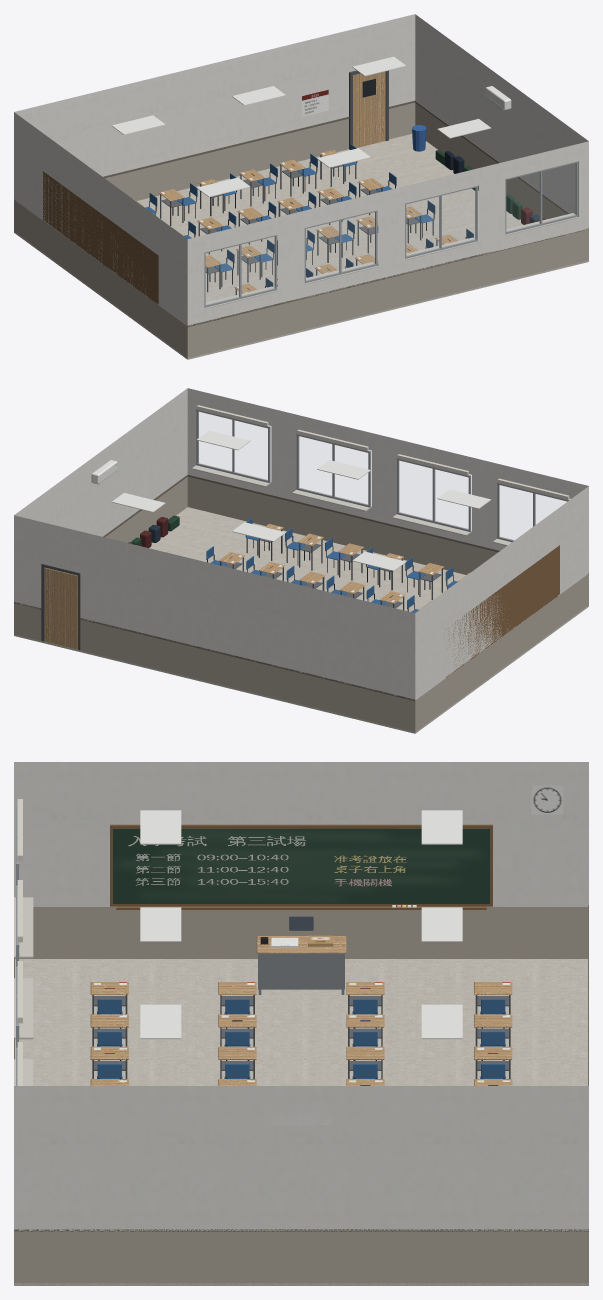
The model's file is gongtong_3f.glb.
3 views of the same model, one above another, from view 1: azimuth 30°, elevation 25°; view 2: azimuth 150°, elevation 25°; view 3: azimuth 270°, elevation 25° (orthographic). The views are drawn at different scales.
Parts seen in each view (by area): view 1: WALL_N_wall, WALL_S_wall, gongtong_3f_floorm, WALL_S_glass, WALL_S_wain, WALL_E_wall, WALL_W_wall, gongtong_3f_props, WALL_N_wain, WALL_W_trim, WALL_W_wain, WALL_S_frame (+8 smaller); view 2: WALL_N_wall, WALL_S_wall, WALL_W_wall, WALL_N_wain, gongtong_3f_floorm, WALL_S_glass, WALL_E_wall, WALL_S_wain, gongtong_3f_props, WALL_S_frame, WALL_W_wain, WALL_W_trim (+7 smaller); view 3: WALL_E_wall, gongtong_3f_floorm, WALL_W_wall, WALL_E_wain, WALL_W_board, WALL_W_wain, gongtong_3f_props, gongtong_3f_woodparts, WALL_W_trim, WALL_S_frame, gongtong_3f_metal, WALL_E_trim (+2 smaller).
Part boxes in pixels (left/top/right/bottom): WALL_N_wall: left=14, top=14, right=415, bottom=176; WALL_S_wall: left=187, top=141, right=588, bottom=325; gongtong_3f_floorm: left=14, top=134, right=588, bottom=359; WALL_S_glass: left=206, top=164, right=575, bottom=304; WALL_S_wain: left=187, top=229, right=588, bottom=357; WALL_E_wall: left=415, top=14, right=588, bottom=216; WALL_W_wall: left=14, top=112, right=187, bottom=326; gongtong_3f_props: left=111, top=56, right=545, bottom=292; WALL_N_wain: left=105, top=102, right=415, bottom=200; WALL_W_trim: left=43, top=171, right=158, bottom=304; WALL_W_wain: left=14, top=200, right=187, bottom=357; WALL_S_frame: left=204, top=161, right=578, bottom=309; WALL_N_wall: left=14, top=515, right=415, bottom=699; WALL_S_wall: left=187, top=388, right=588, bottom=550; WALL_W_wall: left=415, top=486, right=588, bottom=700; WALL_N_wain: left=14, top=603, right=415, bottom=731; gongtong_3f_floorm: left=14, top=507, right=588, bottom=733; WALL_S_glass: left=199, top=412, right=565, bottom=539; WALL_E_wall: left=14, top=388, right=187, bottom=536; WALL_S_wain: left=187, top=476, right=497, bottom=574; gongtong_3f_props: left=111, top=430, right=491, bottom=612; WALL_S_frame: left=192, top=405, right=569, bottom=545; WALL_W_wain: left=415, top=574, right=588, bottom=731; WALL_W_trim: left=445, top=545, right=559, bottom=677; WALL_E_wall: left=14, top=1086, right=588, bottom=1230; gongtong_3f_floorm: left=14, top=959, right=588, bottom=1285; WALL_W_wall: left=14, top=762, right=588, bottom=906; WALL_E_wain: left=14, top=1231, right=588, bottom=1282; WALL_W_board: left=113, top=828, right=489, bottom=903; WALL_W_wain: left=15, top=907, right=587, bottom=958; gongtong_3f_props: left=94, top=810, right=505, bottom=1082; gongtong_3f_woodparts: left=90, top=936, right=512, bottom=1085; WALL_W_trim: left=110, top=824, right=492, bottom=909; WALL_S_frame: left=14, top=799, right=33, bottom=1085; gongtong_3f_metal: left=92, top=988, right=510, bottom=1085; WALL_E_trim: left=14, top=1112, right=588, bottom=1231.
Bounding box in the file's own units: 12 × 3.45 × 9.
Materials: 12 (5 with a texture image).
